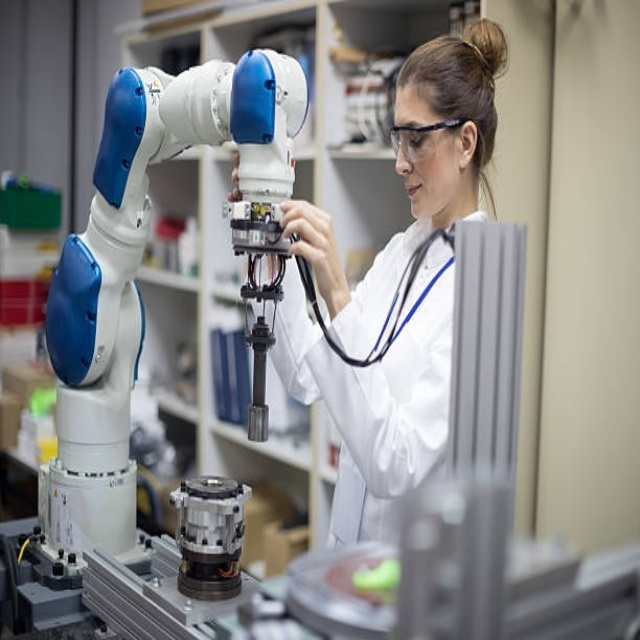Gafas: (390, 118, 468, 163)
Sin_guantes: (276, 199, 341, 287)
Sin_mascara: (402, 173, 428, 220)
